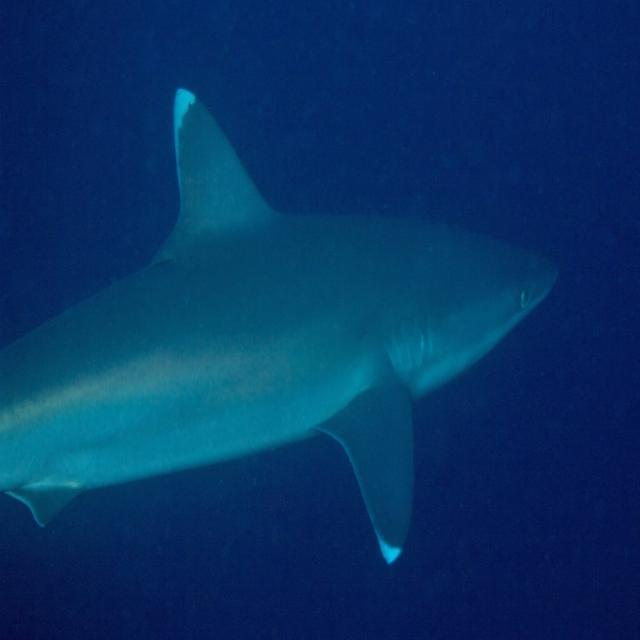Shark: (1, 89, 556, 563)
